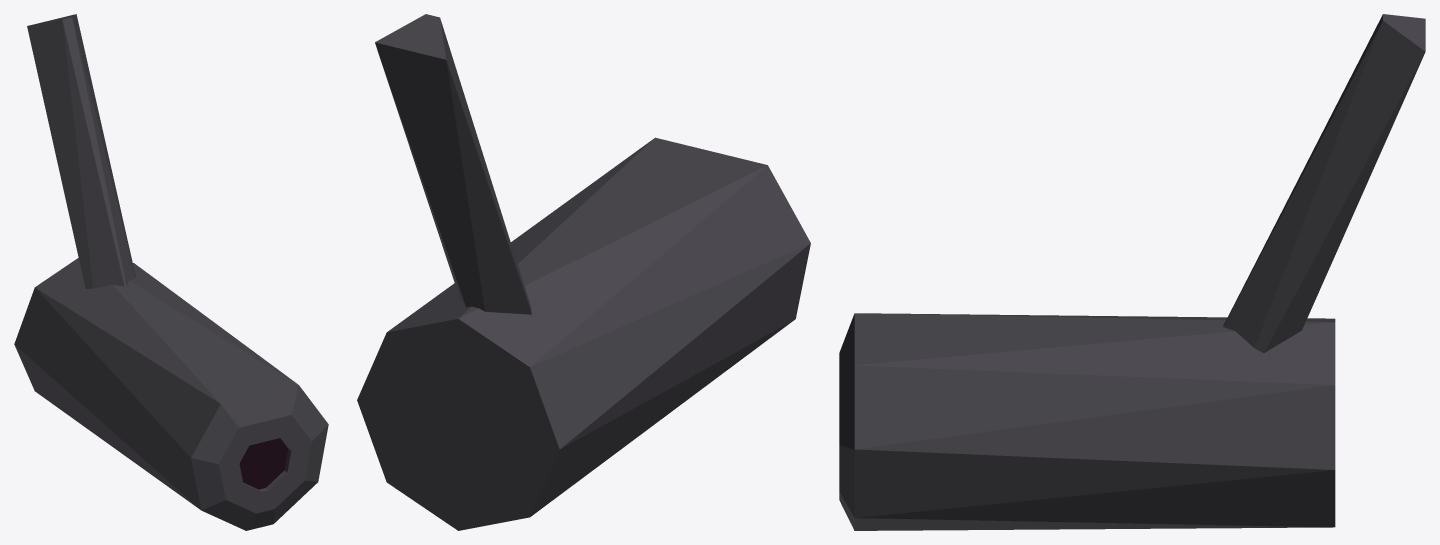
Rendered from Camera.fbx.
3 views of the same model, side by side, from view 1: azimuth 30°, elevation 25°; view 2: azimuth 150°, elevation 25°; view 3: azimuth 270°, elevation 25° (orthographic). The views are drawn at different scales.
Parts seen in each view (by area): view 1: Cylinder.001, Cylinder; view 2: Cylinder.001, Cylinder; view 3: Cylinder.001, Cylinder.
Boxes of the visible parts, x1=… form: Cylinder.001: x1=14, y1=258, x2=328, y2=530; Cylinder: x1=27, y1=14, x2=135, y2=288; Cylinder.001: x1=357, y1=137, x2=810, y2=530; Cylinder: x1=375, y1=14, x2=531, y2=314; Cylinder.001: x1=839, y1=313, x2=1335, y2=530; Cylinder: x1=1223, y1=14, x2=1425, y2=353.
Size of the model in its own units: 39.11 by 98.36 by 103.
